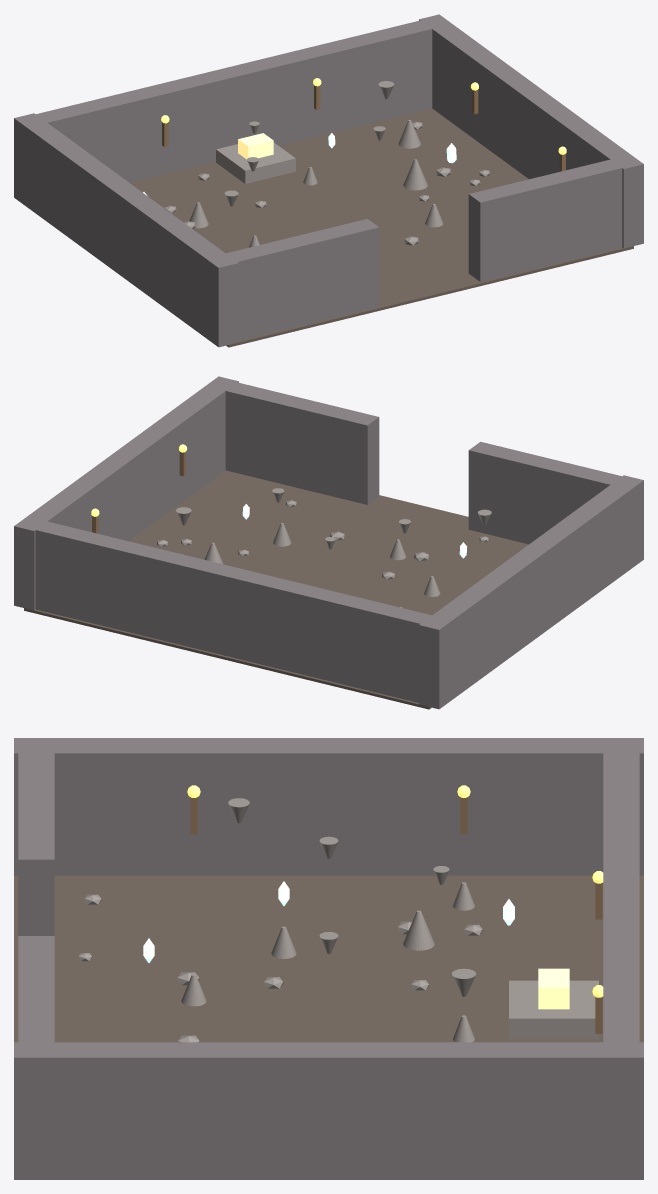
File: cueva_jefe.glb
3 views of the same model, one above another, from view 1: azimuth 30°, elevation 25°; view 2: azimuth 150°, elevation 25°; view 3: azimuth 270°, elevation 25° (orthographic). The views are drawn at different scales.
Visible parts, largest first — view 1: Floor, Wall_N, Wall_L, Wall_R, Wall_S_R, Wall_S_L, Pedestal, Stalag_4.0; view 2: Wall_N, Floor, Wall_L, Wall_R, Wall_S_R, Wall_S_L; view 3: Wall_R, Floor, Wall_L, Wall_N, Wall_S_L, Pedestal, Wall_S_R, Stalag_-4.0, Boss_Lid.
Part boxes in pixels (x1,y1,x2,y2): Floor: (129, 108, 633, 347); Wall_N: (27, 18, 441, 182); Wall_L: (14, 113, 238, 347); Wall_R: (419, 14, 643, 248); Wall_S_R: (468, 159, 630, 281); Wall_S_L: (216, 219, 379, 340); Pedestal: (216, 142, 295, 183); Stalag_4.0: (403, 159, 427, 190); Wall_N: (26, 521, 441, 702); Floor: (24, 470, 528, 709); Wall_L: (419, 475, 643, 709); Wall_R: (14, 376, 238, 610); Wall_S_R: (218, 380, 379, 504); Wall_S_L: (468, 441, 627, 544); Wall_R: (14, 1042, 643, 1179); Floor: (14, 875, 643, 1042); Wall_L: (14, 738, 643, 875); Wall_N: (603, 745, 639, 1049); Wall_S_L: (18, 745, 54, 935); Pedestal: (509, 980, 598, 1039); Wall_S_R: (18, 936, 54, 1049); Stalag_-4.0: (403, 910, 434, 950); Boss_Lid: (538, 968, 569, 992).
Size of the model in its own units: 16.8 by 3.13 by 14.
